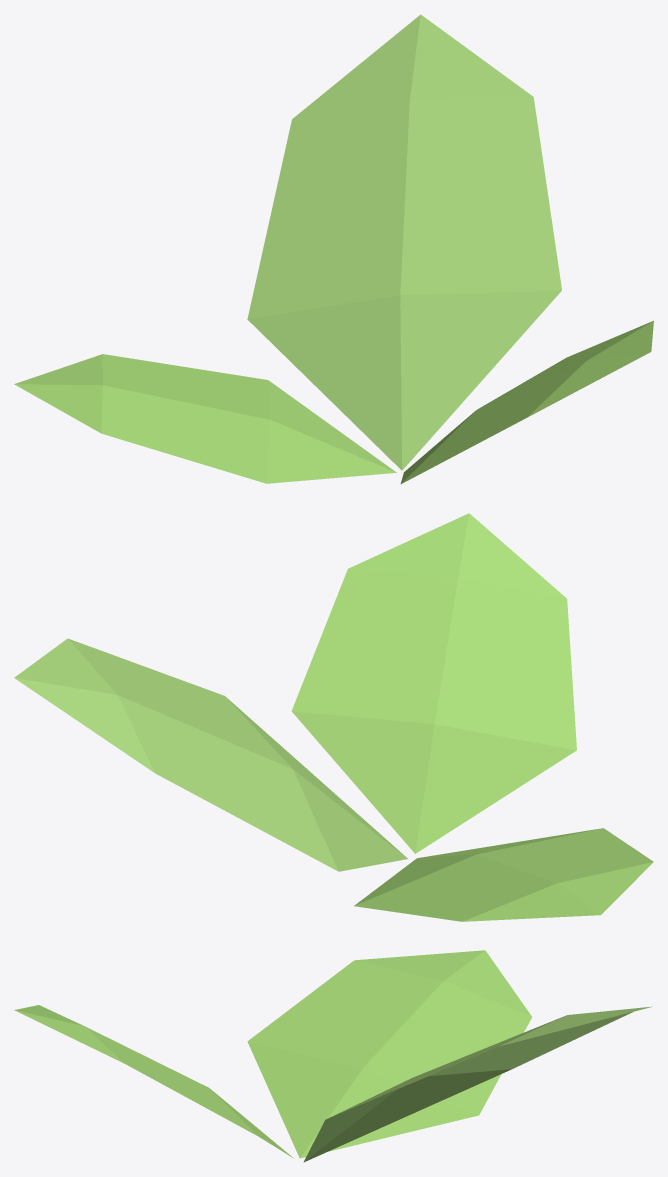
The model's file is Plant_h_OneS_03.fbx.
The picture shows the model from 3 angles, top to bottom: view 1: azimuth 30°, elevation 25°; view 2: azimuth 150°, elevation 25°; view 3: azimuth 270°, elevation 25°; orthographic projection. The views are drawn at different scales.
Parts seen in each view (by area): view 1: Plant_h_OneS_03; view 2: Plant_h_OneS_03; view 3: Plant_h_OneS_03.
Part boxes in pixels (x1,y1,x2,y2): Plant_h_OneS_03: (14, 14, 653, 483); Plant_h_OneS_03: (14, 513, 653, 921); Plant_h_OneS_03: (14, 950, 652, 1162).
Size of the model in its own units: 35.5 by 17.28 by 40.05.
